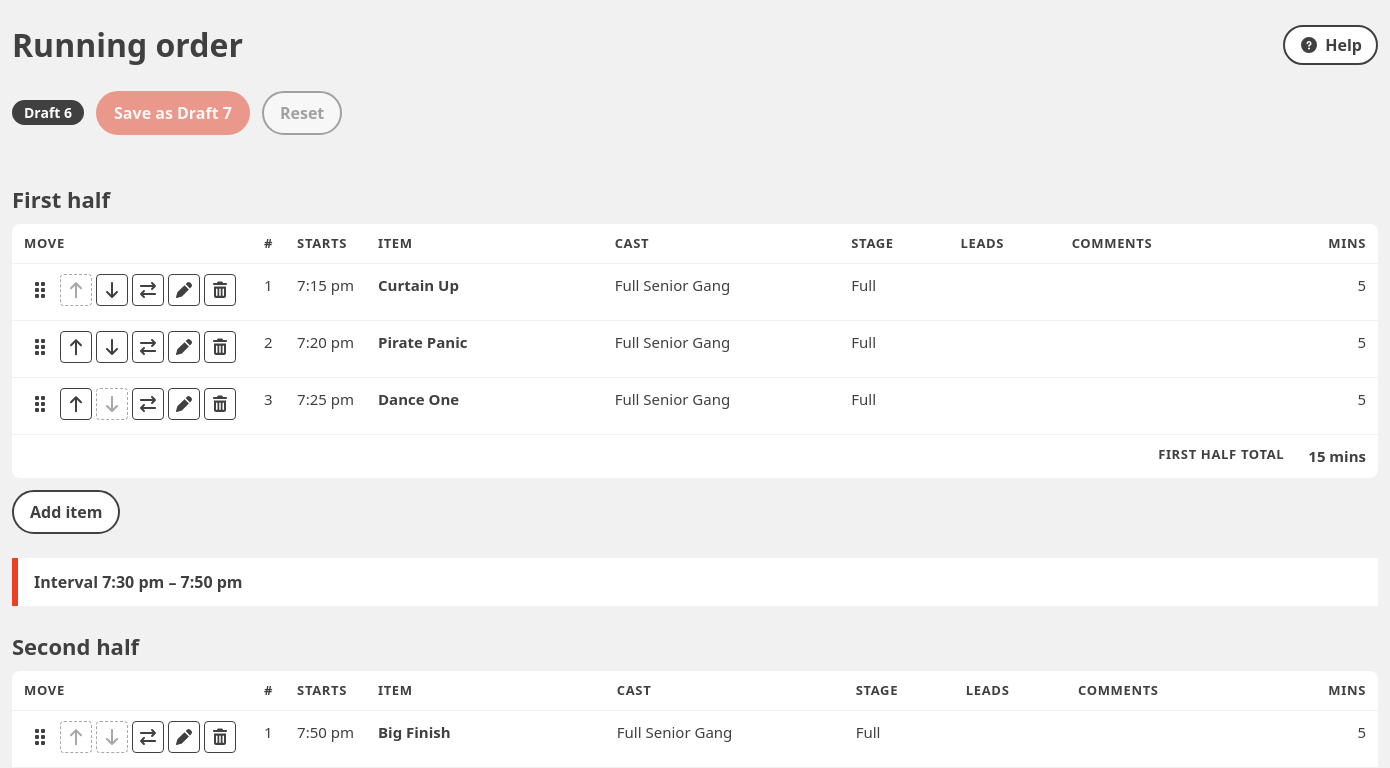
Test: Running order page › reordering with move buttons › moves an item down as an unsaved change, renumbering it
Step 1. Click the button named "Move Curtain Up down" → (112, 290), box [96, 274, 128, 306]
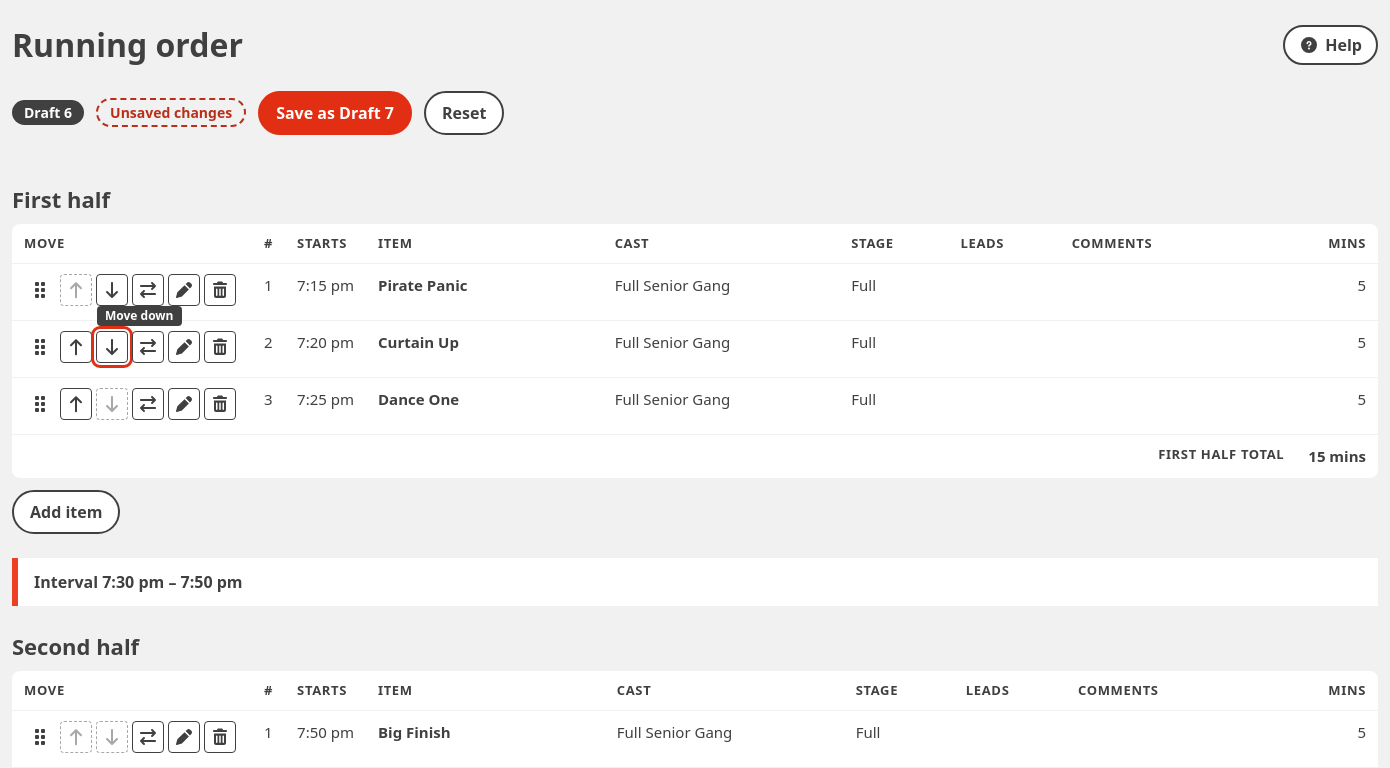
Expected: the cell with test id "number" next to "7:15 pm" reads "1", [264, 275, 273, 295]
Expected: the text with test id "unsaved" reads "Unsaved changes", [110, 103, 232, 122]
